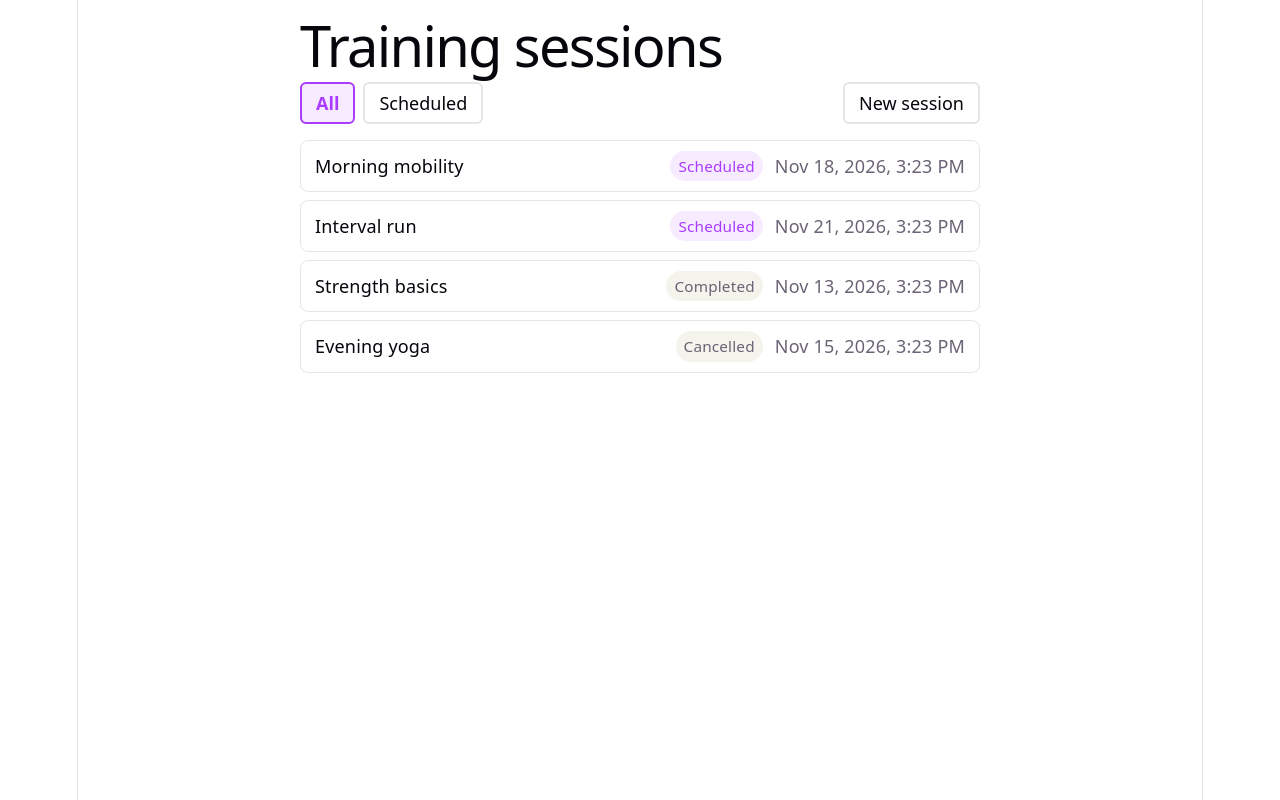
Test case: training sessions workspace › shows validation messages and does not send invalid sessions
Expected: the list named "Sessions" is shown, [300,140,980,373]
Click the button "New session" at (912, 103), box [843,82,980,124]
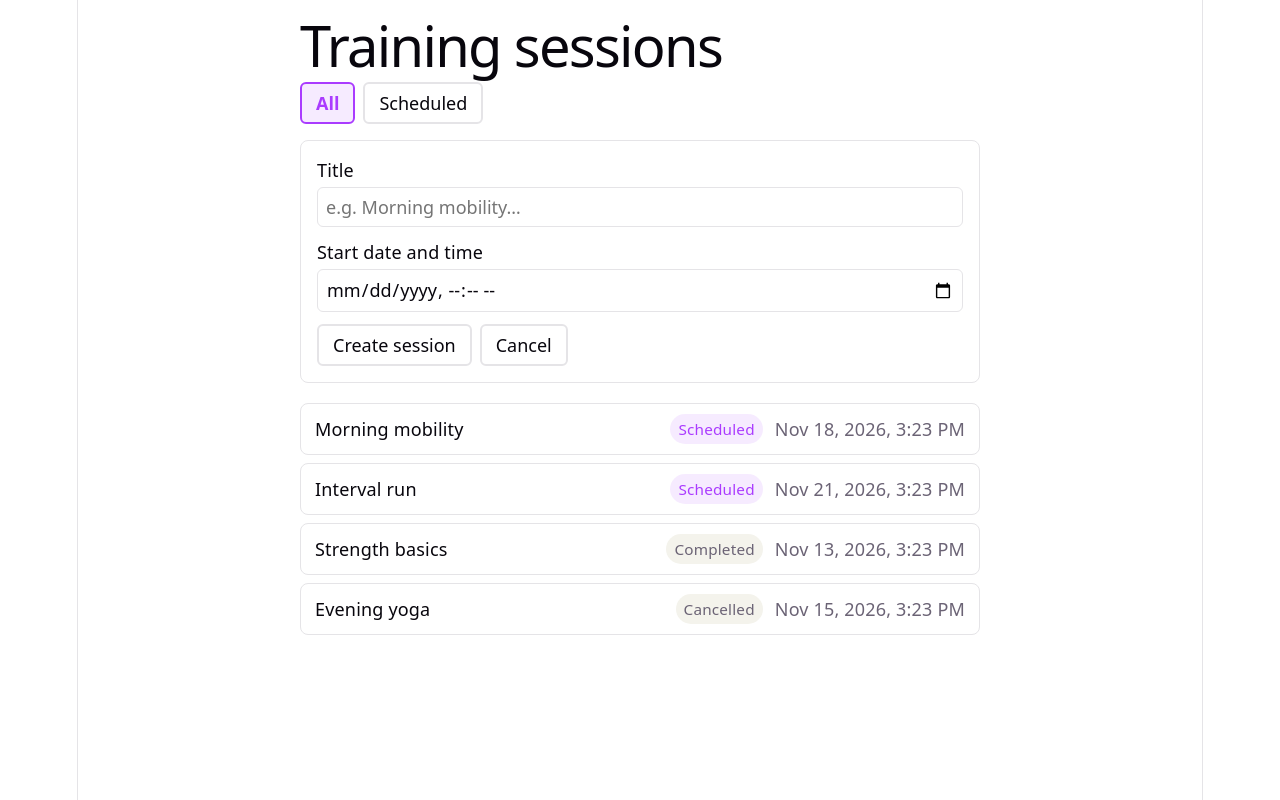
Type "  ab  " into the field labelled "Title" at (640, 207), box [317,187,963,227]
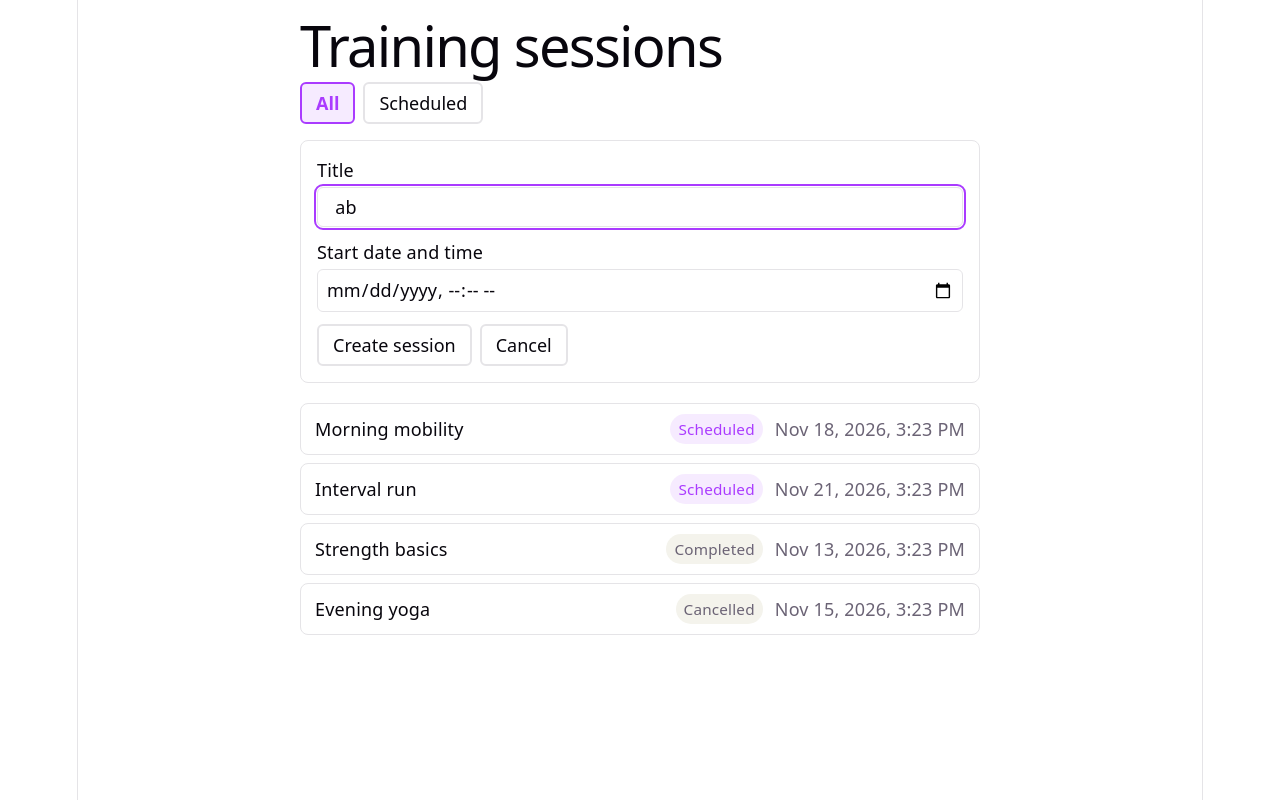
Type "2000-01-01T10:00" into the field labelled "Start date and time" at (640, 291), box [317,270,963,312]
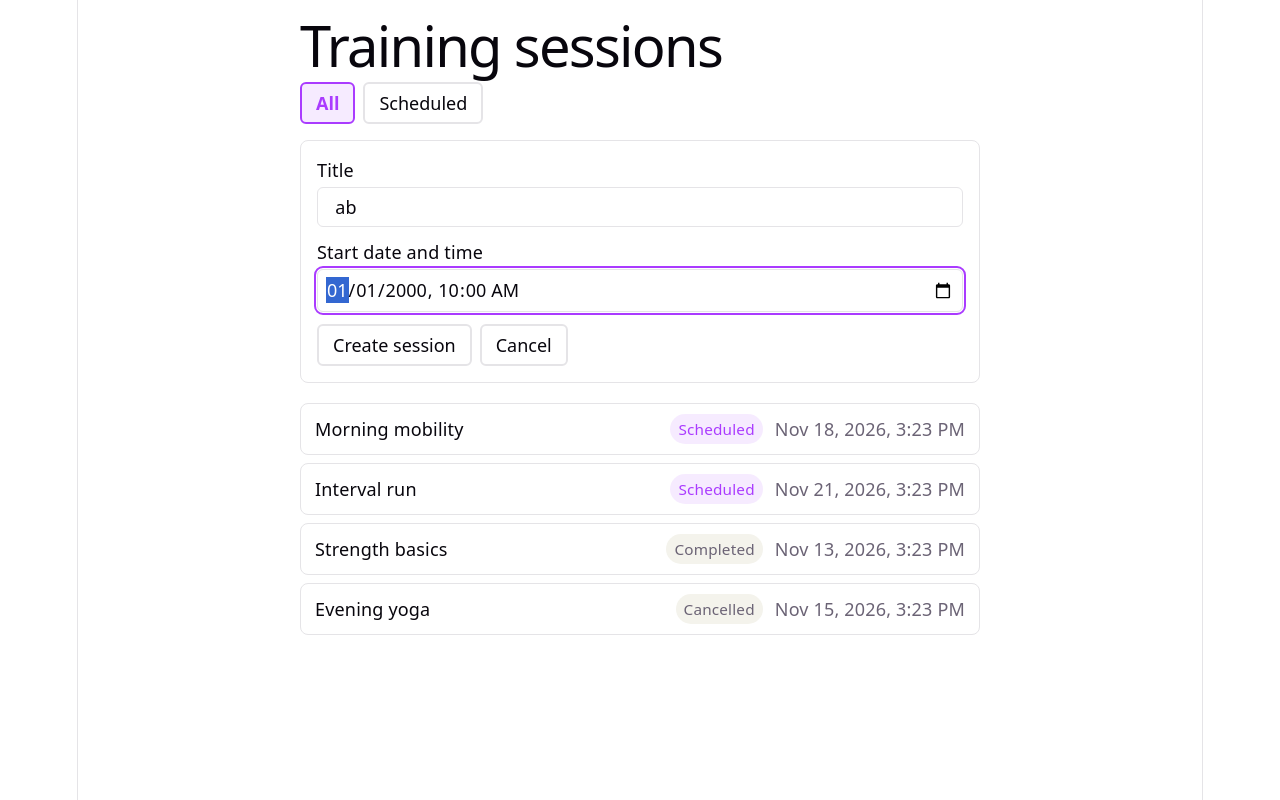
Click the button "Create session" at (394, 345), box [317,324,472,366]
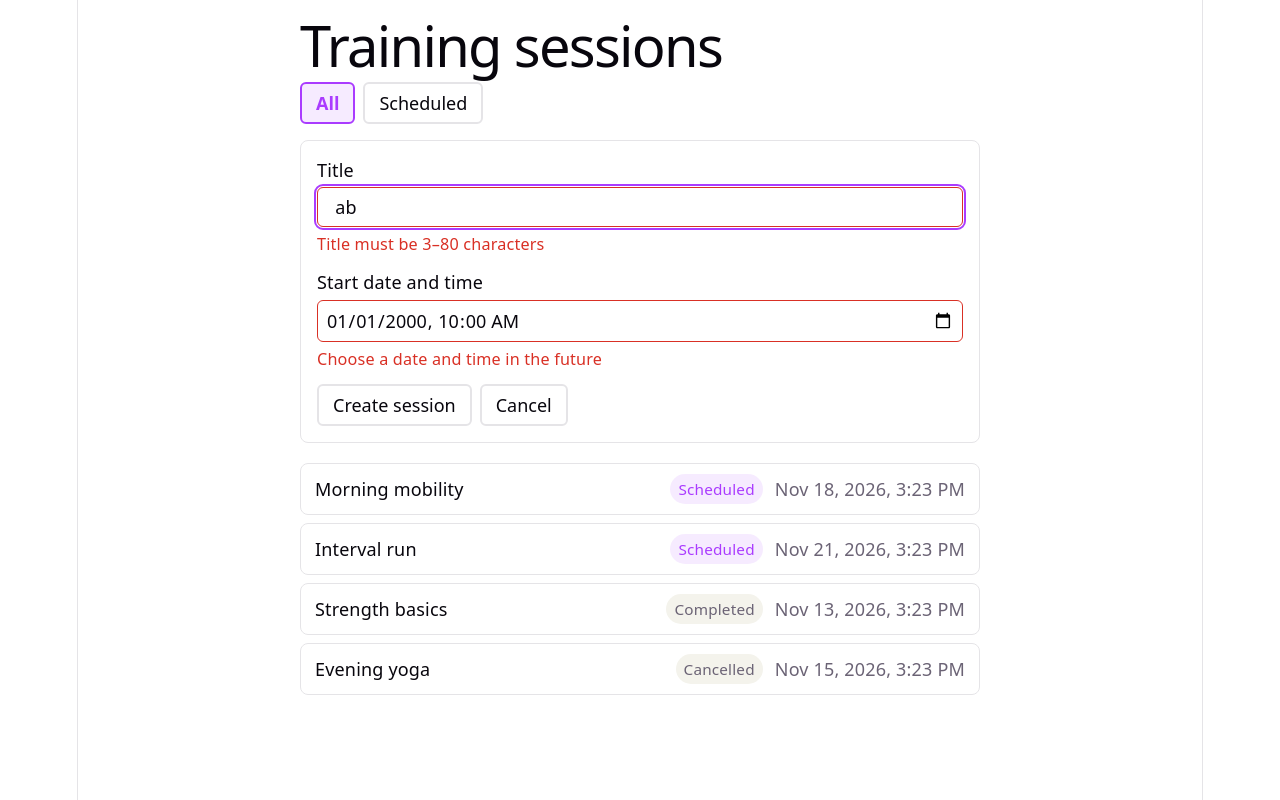
Now the text "Title must be 3–80 characters" is shown, box [317,233,545,255]
Now the text "Choose a date and time in the future" is shown, box [317,348,602,370]
